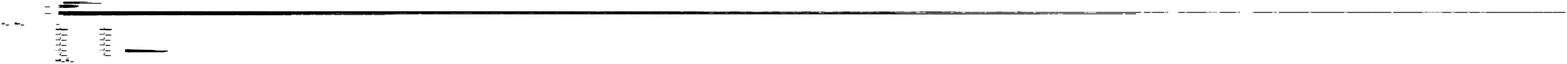corridor: (696, 13, 702, 13), (1237, 13, 1243, 13)
room: (676, 34, 697, 35), (1218, 34, 1238, 35), (818, 50, 831, 51), (1553, 10, 1558, 12), (165, 40, 175, 41), (718, 7, 727, 8), (1259, 7, 1268, 8), (26, 40, 35, 41), (1259, 25, 1268, 26), (718, 25, 727, 26), (668, 0, 672, 2), (818, 53, 824, 54), (1262, 35, 1268, 36), (721, 35, 727, 36), (778, 63, 782, 64), (672, 1, 675, 1), (676, 1, 680, 1), (680, 1, 684, 1), (684, 1, 688, 1), (688, 1, 692, 1), (692, 1, 696, 1), (707, 2, 710, 2), (712, 2, 720, 2), (720, 2, 726, 2), (813, 2, 816, 2), (803, 2, 811, 2), (797, 2, 803, 2), (820, 1, 823, 1), (823, 1, 827, 1), (856, 53, 872, 53), (818, 50, 821, 50), (829, 53, 835, 53), (849, 52, 856, 52), (717, 18, 723, 18), (713, 59, 714, 59), (720, 12, 727, 12), (200, 41, 204, 41), (204, 41, 208, 41), (208, 41, 212, 41), (196, 41, 200, 41), (212, 41, 215, 41), (168, 41, 172, 41), (166, 42, 170, 42), (171, 42, 174, 42), (175, 42, 177, 42), (1259, 18, 1264, 18), (1261, 12, 1268, 12), (1531, 11, 1538, 11)
staircase: (697, 12, 729, 14), (1238, 12, 1270, 14), (696, 13, 702, 13), (713, 13, 718, 13), (1237, 13, 1243, 13), (1254, 13, 1259, 13)
wall: (816, 50, 854, 53), (165, 40, 175, 41), (26, 40, 35, 41), (856, 52, 859, 53), (718, 7, 725, 7), (856, 53, 857, 53), (864, 53, 866, 53), (722, 7, 727, 7), (715, 24, 718, 24), (715, 30, 718, 30), (715, 35, 718, 35), (178, 42, 186, 42), (1259, 7, 1266, 7), (1264, 7, 1268, 7), (1256, 24, 1259, 24), (1256, 30, 1259, 30), (1256, 35, 1259, 35), (1531, 12, 1538, 12)
window: (706, 34, 727, 36), (1247, 34, 1268, 36), (676, 34, 697, 35), (1218, 34, 1238, 35), (718, 25, 727, 26), (1259, 25, 1268, 26), (668, 34, 676, 35), (668, 0, 672, 2), (1210, 34, 1217, 35), (721, 35, 727, 36), (1262, 35, 1268, 36), (721, 23, 726, 24), (1263, 23, 1267, 24), (668, 1, 671, 2), (715, 18, 718, 19), (1256, 18, 1259, 19), (717, 18, 723, 18), (718, 18, 721, 18), (720, 18, 727, 18), (724, 24, 726, 24), (720, 23, 722, 23), (715, 24, 718, 24), (721, 29, 726, 29), (724, 29, 726, 29), (720, 29, 722, 29), (715, 30, 718, 30), (1266, 24, 1267, 24), (1261, 23, 1263, 23), (1256, 24, 1259, 24), (1263, 29, 1267, 29), (1266, 29, 1267, 29), (1261, 29, 1263, 29), (1256, 30, 1259, 30), (1259, 18, 1264, 18), (1260, 18, 1263, 18), (1261, 18, 1268, 18)
